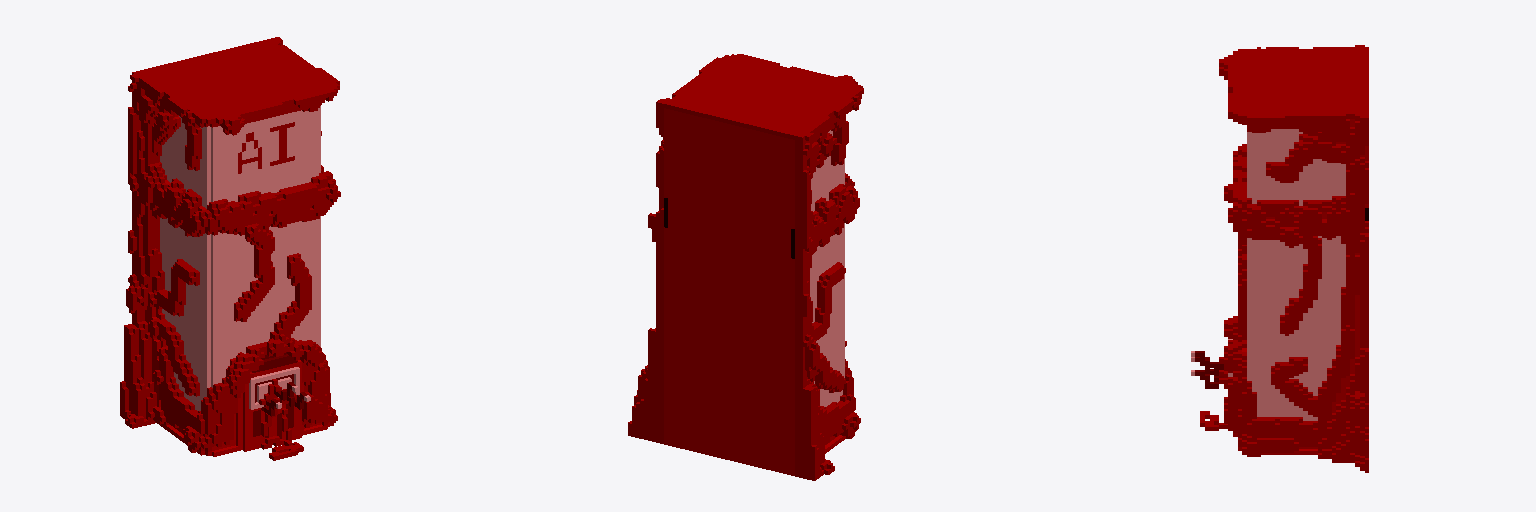
3 renders of one model, left to right at view 1: azimuth 30°, elevation 25°; view 2: azimuth 150°, elevation 25°; view 3: azimuth 270°, elevation 25°, orthographic.
Visible parts, largest first — view 1: object 1; view 2: object 1; view 3: object 1.
Part boxes in pixels (left/top/right/bottom): object 1: left=120, top=37, right=340, bottom=460; object 1: left=628, top=54, right=863, bottom=480; object 1: left=1191, top=45, right=1368, bottom=472.
Bounding box in the file's own units: 4.7 × 8 × 3.8.
1 materials, 1 textured.